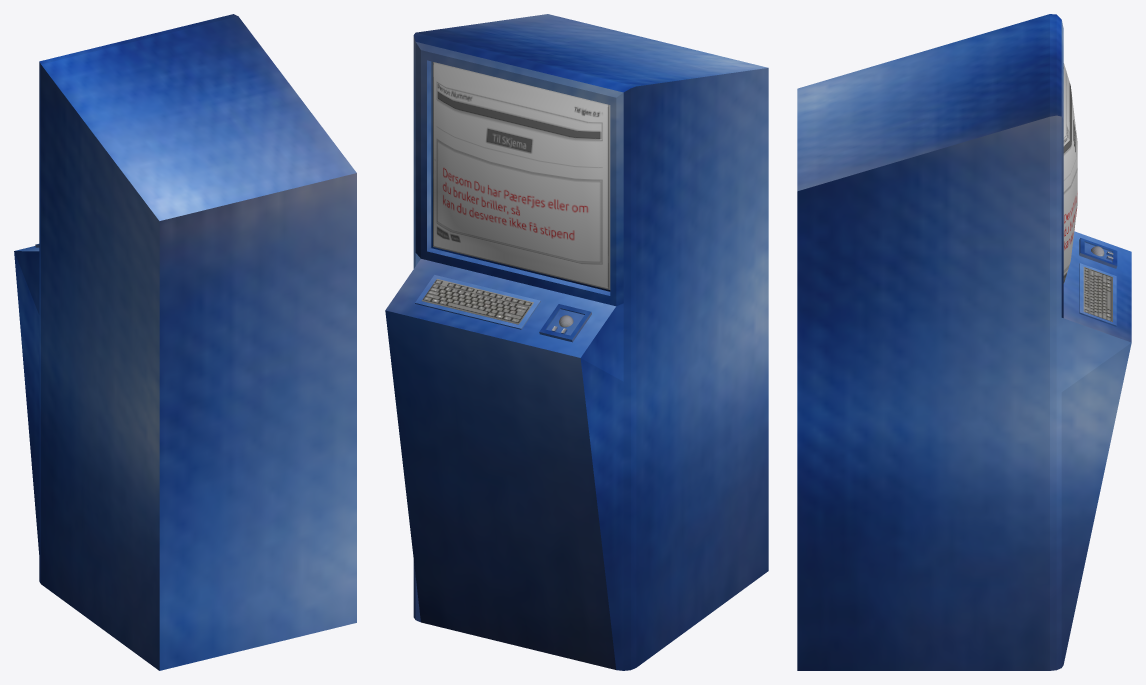
The model's file is StipendTerminal.glb.
3 renders of one model, left to right at view 1: azimuth 30°, elevation 25°; view 2: azimuth 150°, elevation 25°; view 3: azimuth 270°, elevation 25°, orthographic. The views are drawn at different scales.
Parts seen in each view (by area): view 1: StipendTerminal; view 2: StipendTerminal; view 3: StipendTerminal.
Part boxes in pixels (box(x1,y1,x2,y2)): StipendTerminal: box(14, 14, 356, 670); StipendTerminal: box(385, 14, 768, 670); StipendTerminal: box(797, 14, 1131, 670).
Bounding box in the file's own units: 6.44 × 16.22 × 8.86.
1 material, 1 textured.
